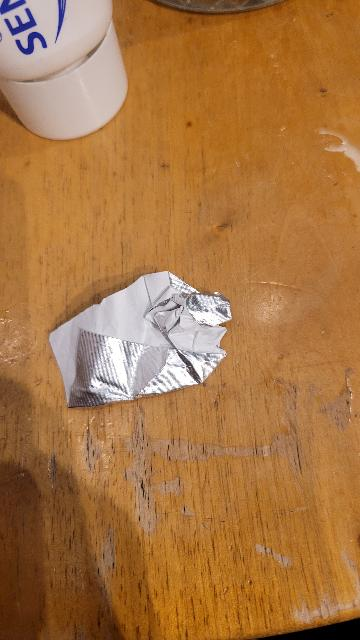Plastik: (13, 269, 253, 407)
